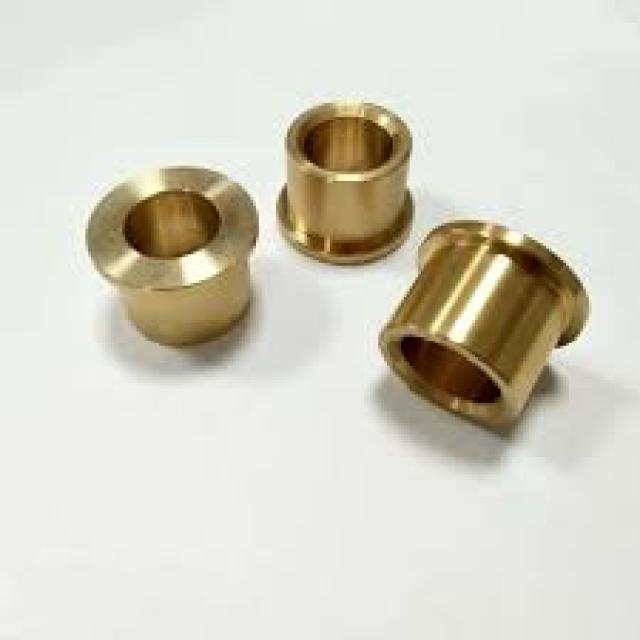Turning: (402, 224, 605, 476), (91, 155, 270, 381), (270, 86, 423, 273)
